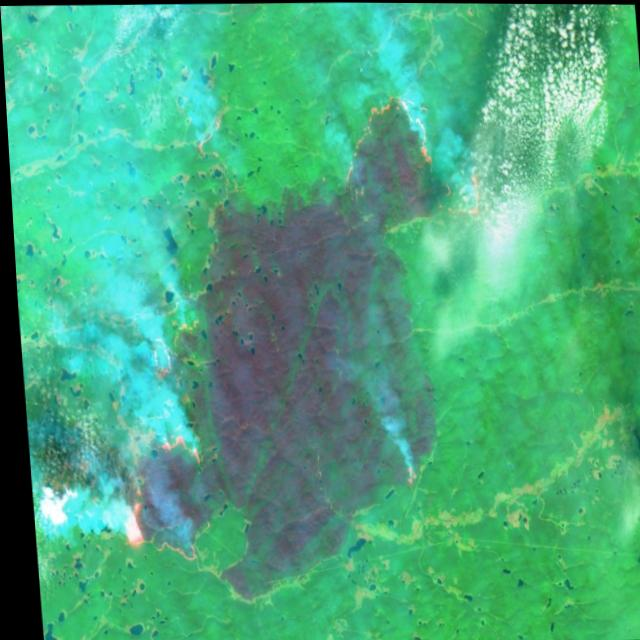fire: (333, 80, 485, 239), (100, 424, 210, 572), (183, 104, 238, 186), (133, 328, 176, 383), (394, 459, 418, 493)
